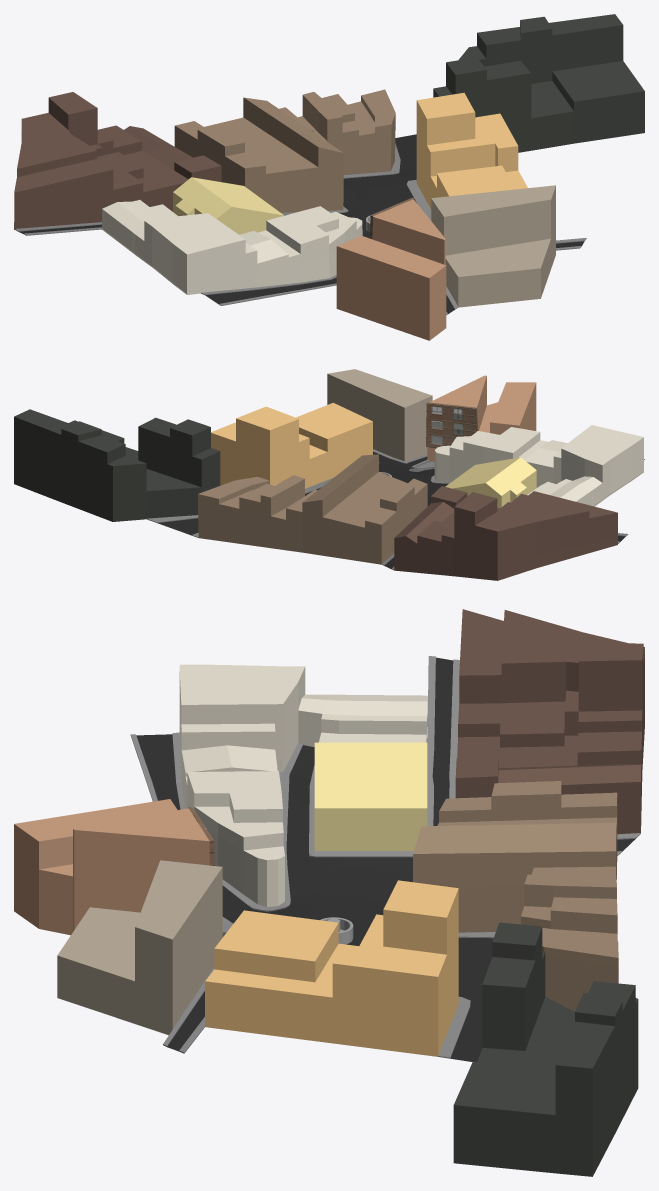
The model's file is Borriol Ruta 2.fbx.
3 views of the same model, one above another, from view 1: azimuth 30°, elevation 25°; view 2: azimuth 150°, elevation 25°; view 3: azimuth 270°, elevation 25° (orthographic). The views are drawn at different scales.
Parts seen in each view (by area): view 1: Buildings 3, Buildings 2, Buildings 1, Buildings 7, Buildings 5, Buildings 6, Buildings 4, StreetFloor CarWay, Ajuntament, StreetFloor sidewalk; view 2: Buildings 3, Buildings 2, Buildings 1, Buildings 7, Buildings 4, Buildings 5, Buildings 6, Ajuntament, (2), StreetFloor CarWay, StreetFloor sidewalk; view 3: Buildings 3, Buildings 4, Buildings 1, Buildings 2, Buildings 7, Buildings 5, StreetFloor CarWay, Buildings 6, Ajuntament, StreetFloor sidewalk.
Boxes of the visible parts, left/top/right/bottom form: Buildings 3: left=433, top=14, right=644, bottom=152; Buildings 2: left=174, top=89, right=395, bottom=212; Buildings 1: left=14, top=92, right=221, bottom=229; Buildings 7: left=102, top=200, right=362, bottom=294; Buildings 5: left=431, top=185, right=555, bottom=307; Buildings 6: left=336, top=199, right=446, bottom=340; Buildings 4: left=416, top=92, right=527, bottom=209; StreetFloor CarWay: left=18, top=134, right=584, bottom=313; Ajuntament: left=173, top=177, right=283, bottom=234; StreetFloor sidewalk: left=14, top=143, right=586, bottom=315; Buildings 3: left=14, top=409, right=220, bottom=521; Buildings 2: left=198, top=454, right=427, bottom=564; Buildings 1: left=394, top=486, right=617, bottom=580; Buildings 7: left=434, top=425, right=643, bottom=506; Buildings 4: left=211, top=402, right=372, bottom=488; Buildings 5: left=327, top=369, right=432, bottom=461; Buildings 6: left=427, top=375, right=536, bottom=461; Ajuntament: left=445, top=457, right=536, bottom=508; (2): left=426, top=402, right=477, bottom=448; StreetFloor CarWay: left=157, top=452, right=625, bottom=569; StreetFloor sidewalk: left=146, top=449, right=644, bottom=570; Buildings 3: left=453, top=922, right=638, bottom=1176; Buildings 4: left=205, top=880, right=458, bottom=1056; Buildings 1: left=455, top=609, right=644, bottom=834; Buildings 2: left=413, top=781, right=618, bottom=1011; Buildings 7: left=179, top=664, right=427, bottom=906; Buildings 5: left=57, top=860, right=222, bottom=1035; StreetFloor CarWay: left=136, top=657, right=635, bottom=1061; Buildings 6: left=14, top=799, right=209, bottom=935; Ajuntament: left=314, top=742, right=427, bottom=850; StreetFloor sidewalk: left=130, top=656, right=640, bottom=1058.
Bounding box in the file's own units: 17048 × 2928 × 10312.
